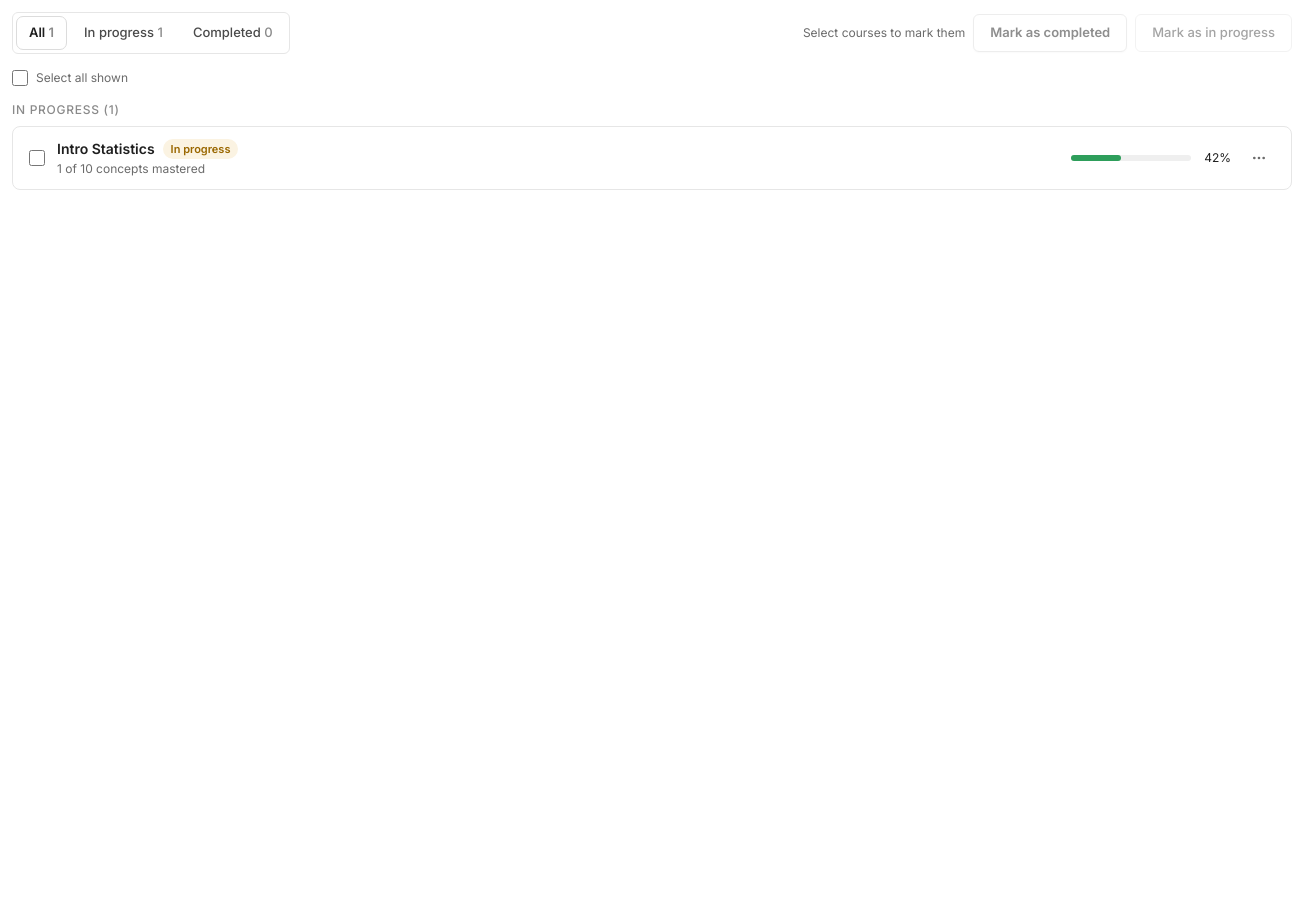
the row actions menu › stays open after the click that opened it
The width and height of the screenshot is (1304, 912).
Click the button named "Actions for Intro Statistics" at (1259, 158), box [1243, 142, 1275, 174]
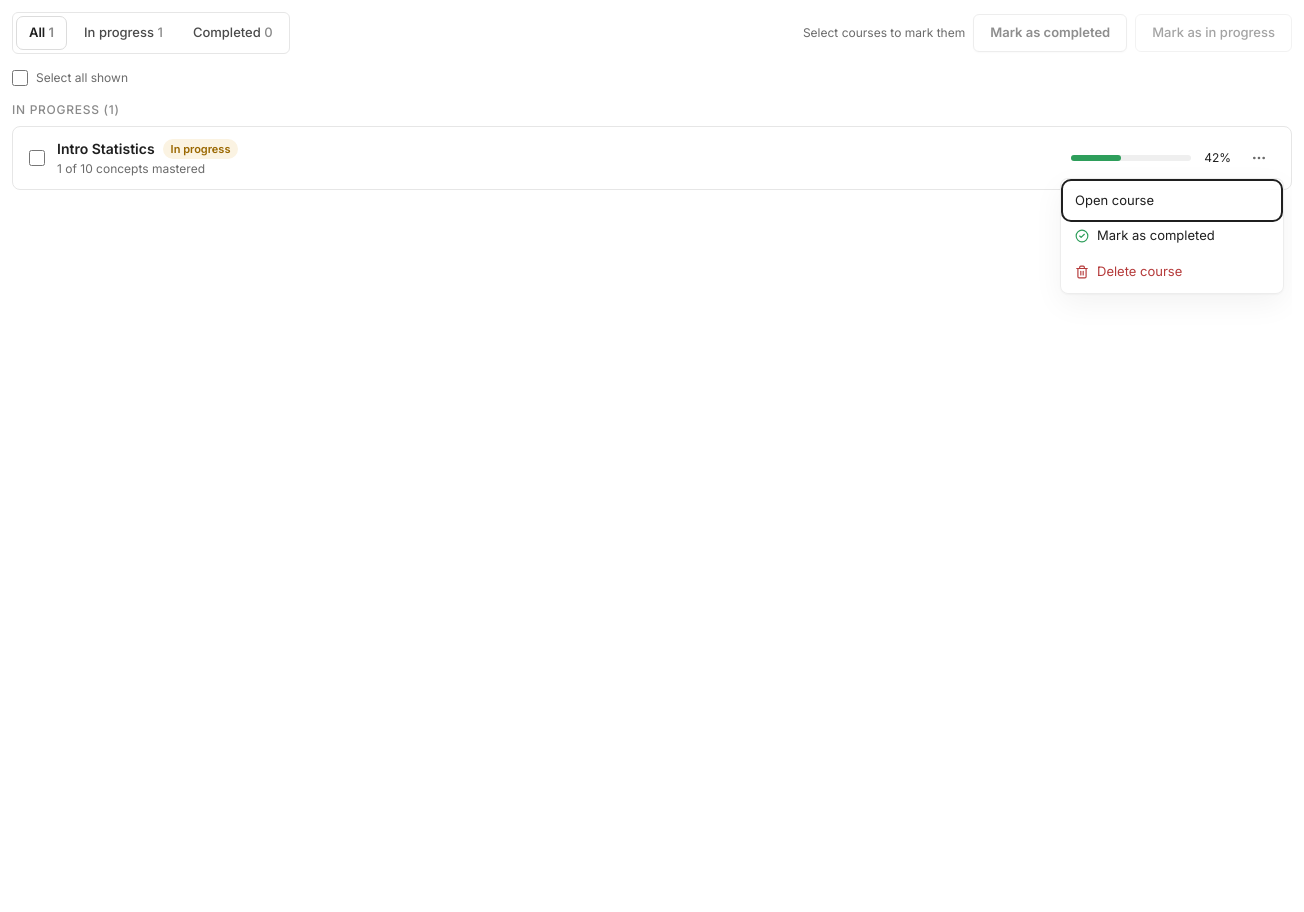
Expected: the menu is shown, [1060, 178, 1284, 294]
Click the element that starts with "All" at (652, 462), box [12, 12, 1292, 911]
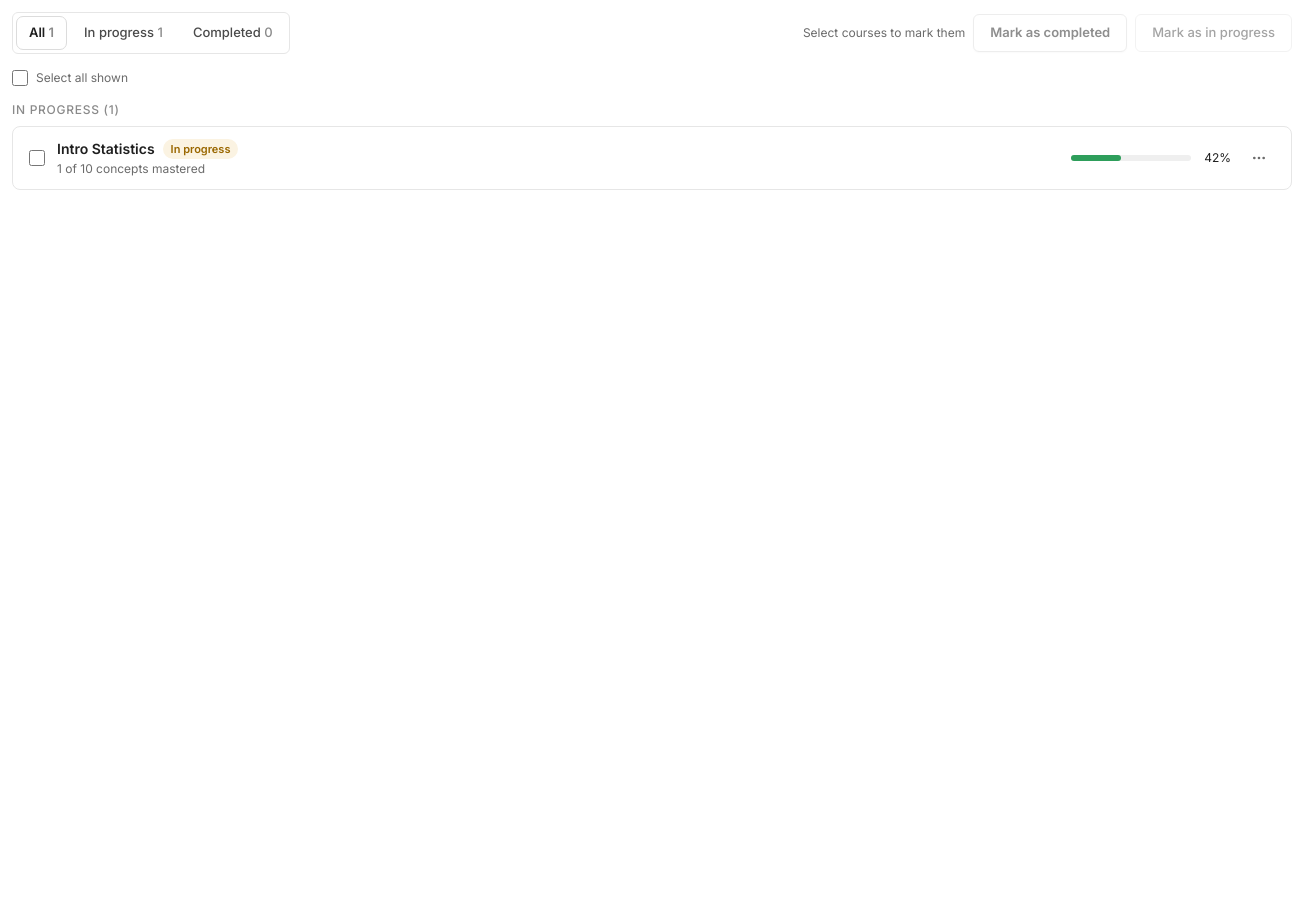
Expected: the menu is gone
